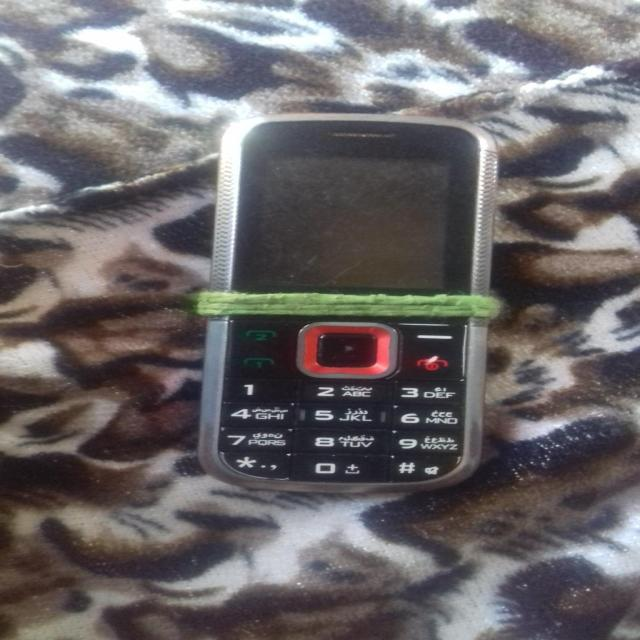Phone: (197, 112, 503, 498)
